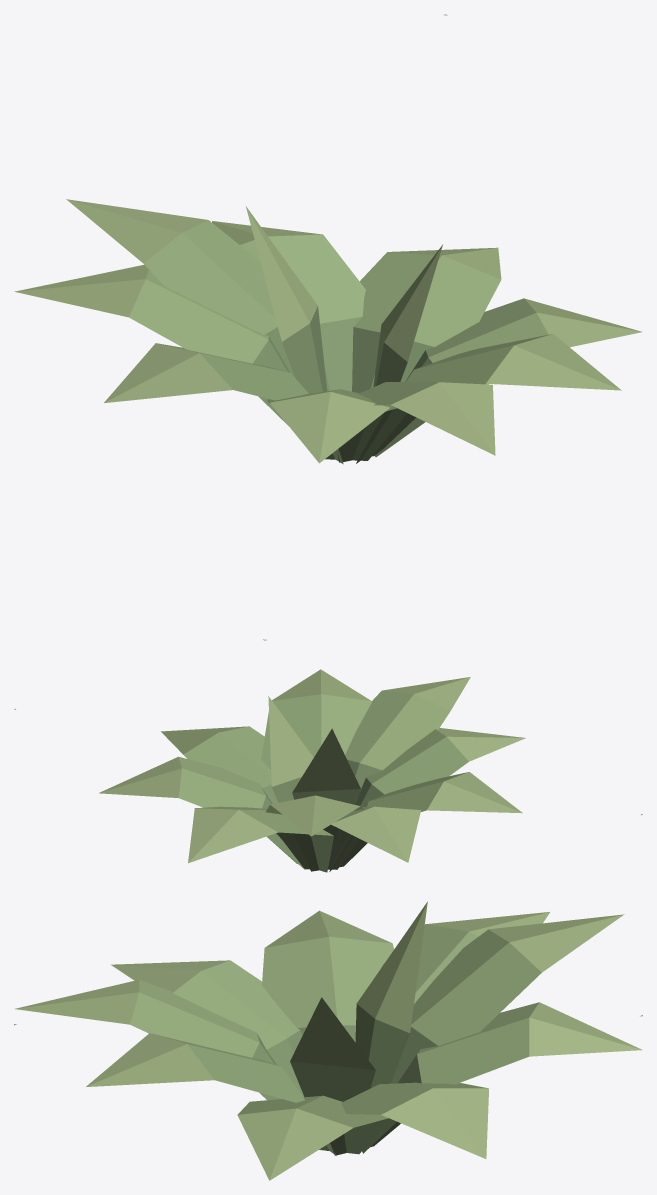
The model's file is Fern1_lite_leaf.glb.
3 views of the same model, one above another, from view 1: azimuth 30°, elevation 25°; view 2: azimuth 150°, elevation 25°; view 3: azimuth 270°, elevation 25° (orthographic). The views are drawn at different scales.
Visible parts, largest first — view 1: Fern1_lite_leaf; view 2: Fern1_lite_leaf; view 3: Fern1_lite_leaf.
Boxes of the visible parts, box(x1,y1,x2,y2) form: Fern1_lite_leaf: box(14, 14, 641, 640); Fern1_lite_leaf: box(14, 669, 642, 872); Fern1_lite_leaf: box(14, 901, 642, 1180).
Size of the model in its own units: 3.14 by 1.51 by 3.52.
